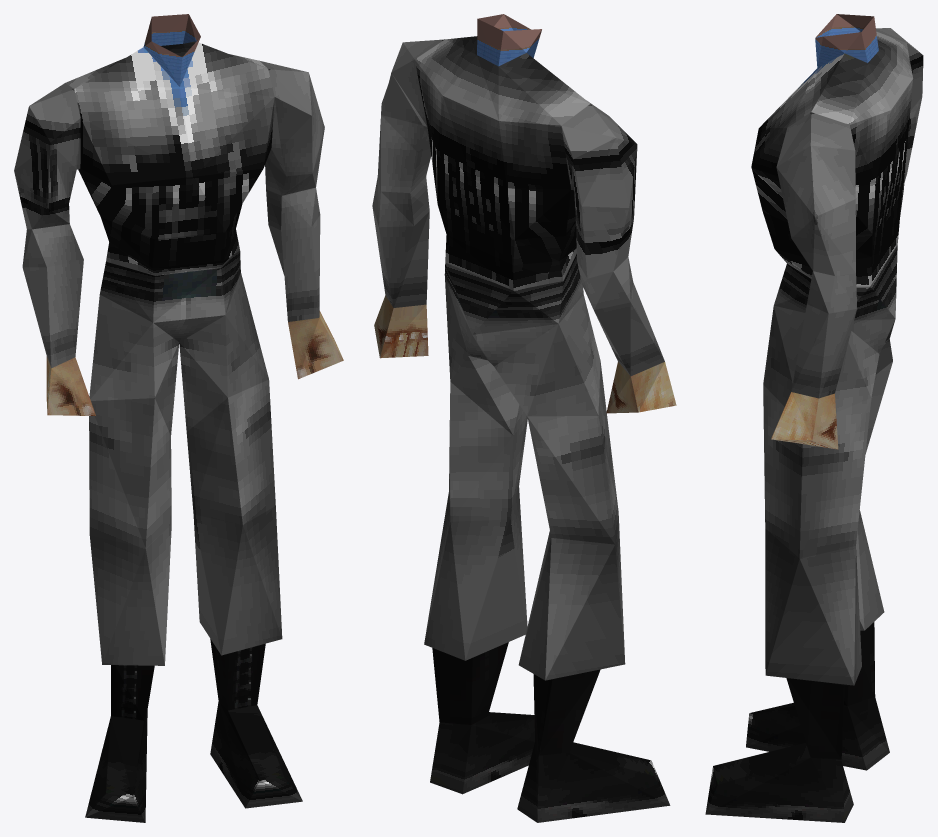
File: primary_025.glb
3 views of the same model, side by side, from view 1: azimuth 30°, elevation 25°; view 2: azimuth 150°, elevation 25°; view 3: azimuth 270°, elevation 25° (orthographic). The views are drawn at different scales.
Parts seen in each view (by area): view 1: Object; view 2: Object; view 3: Object.
Boxes of the visible parts, x1,y1,x2,y2 form: Object: (14, 14, 343, 822); Object: (372, 14, 676, 822); Object: (705, 14, 923, 822).
Bounding box in the file's own units: 0.7369 × 1.83 × 0.4715.
Materials: 69 (69 with a texture image).
